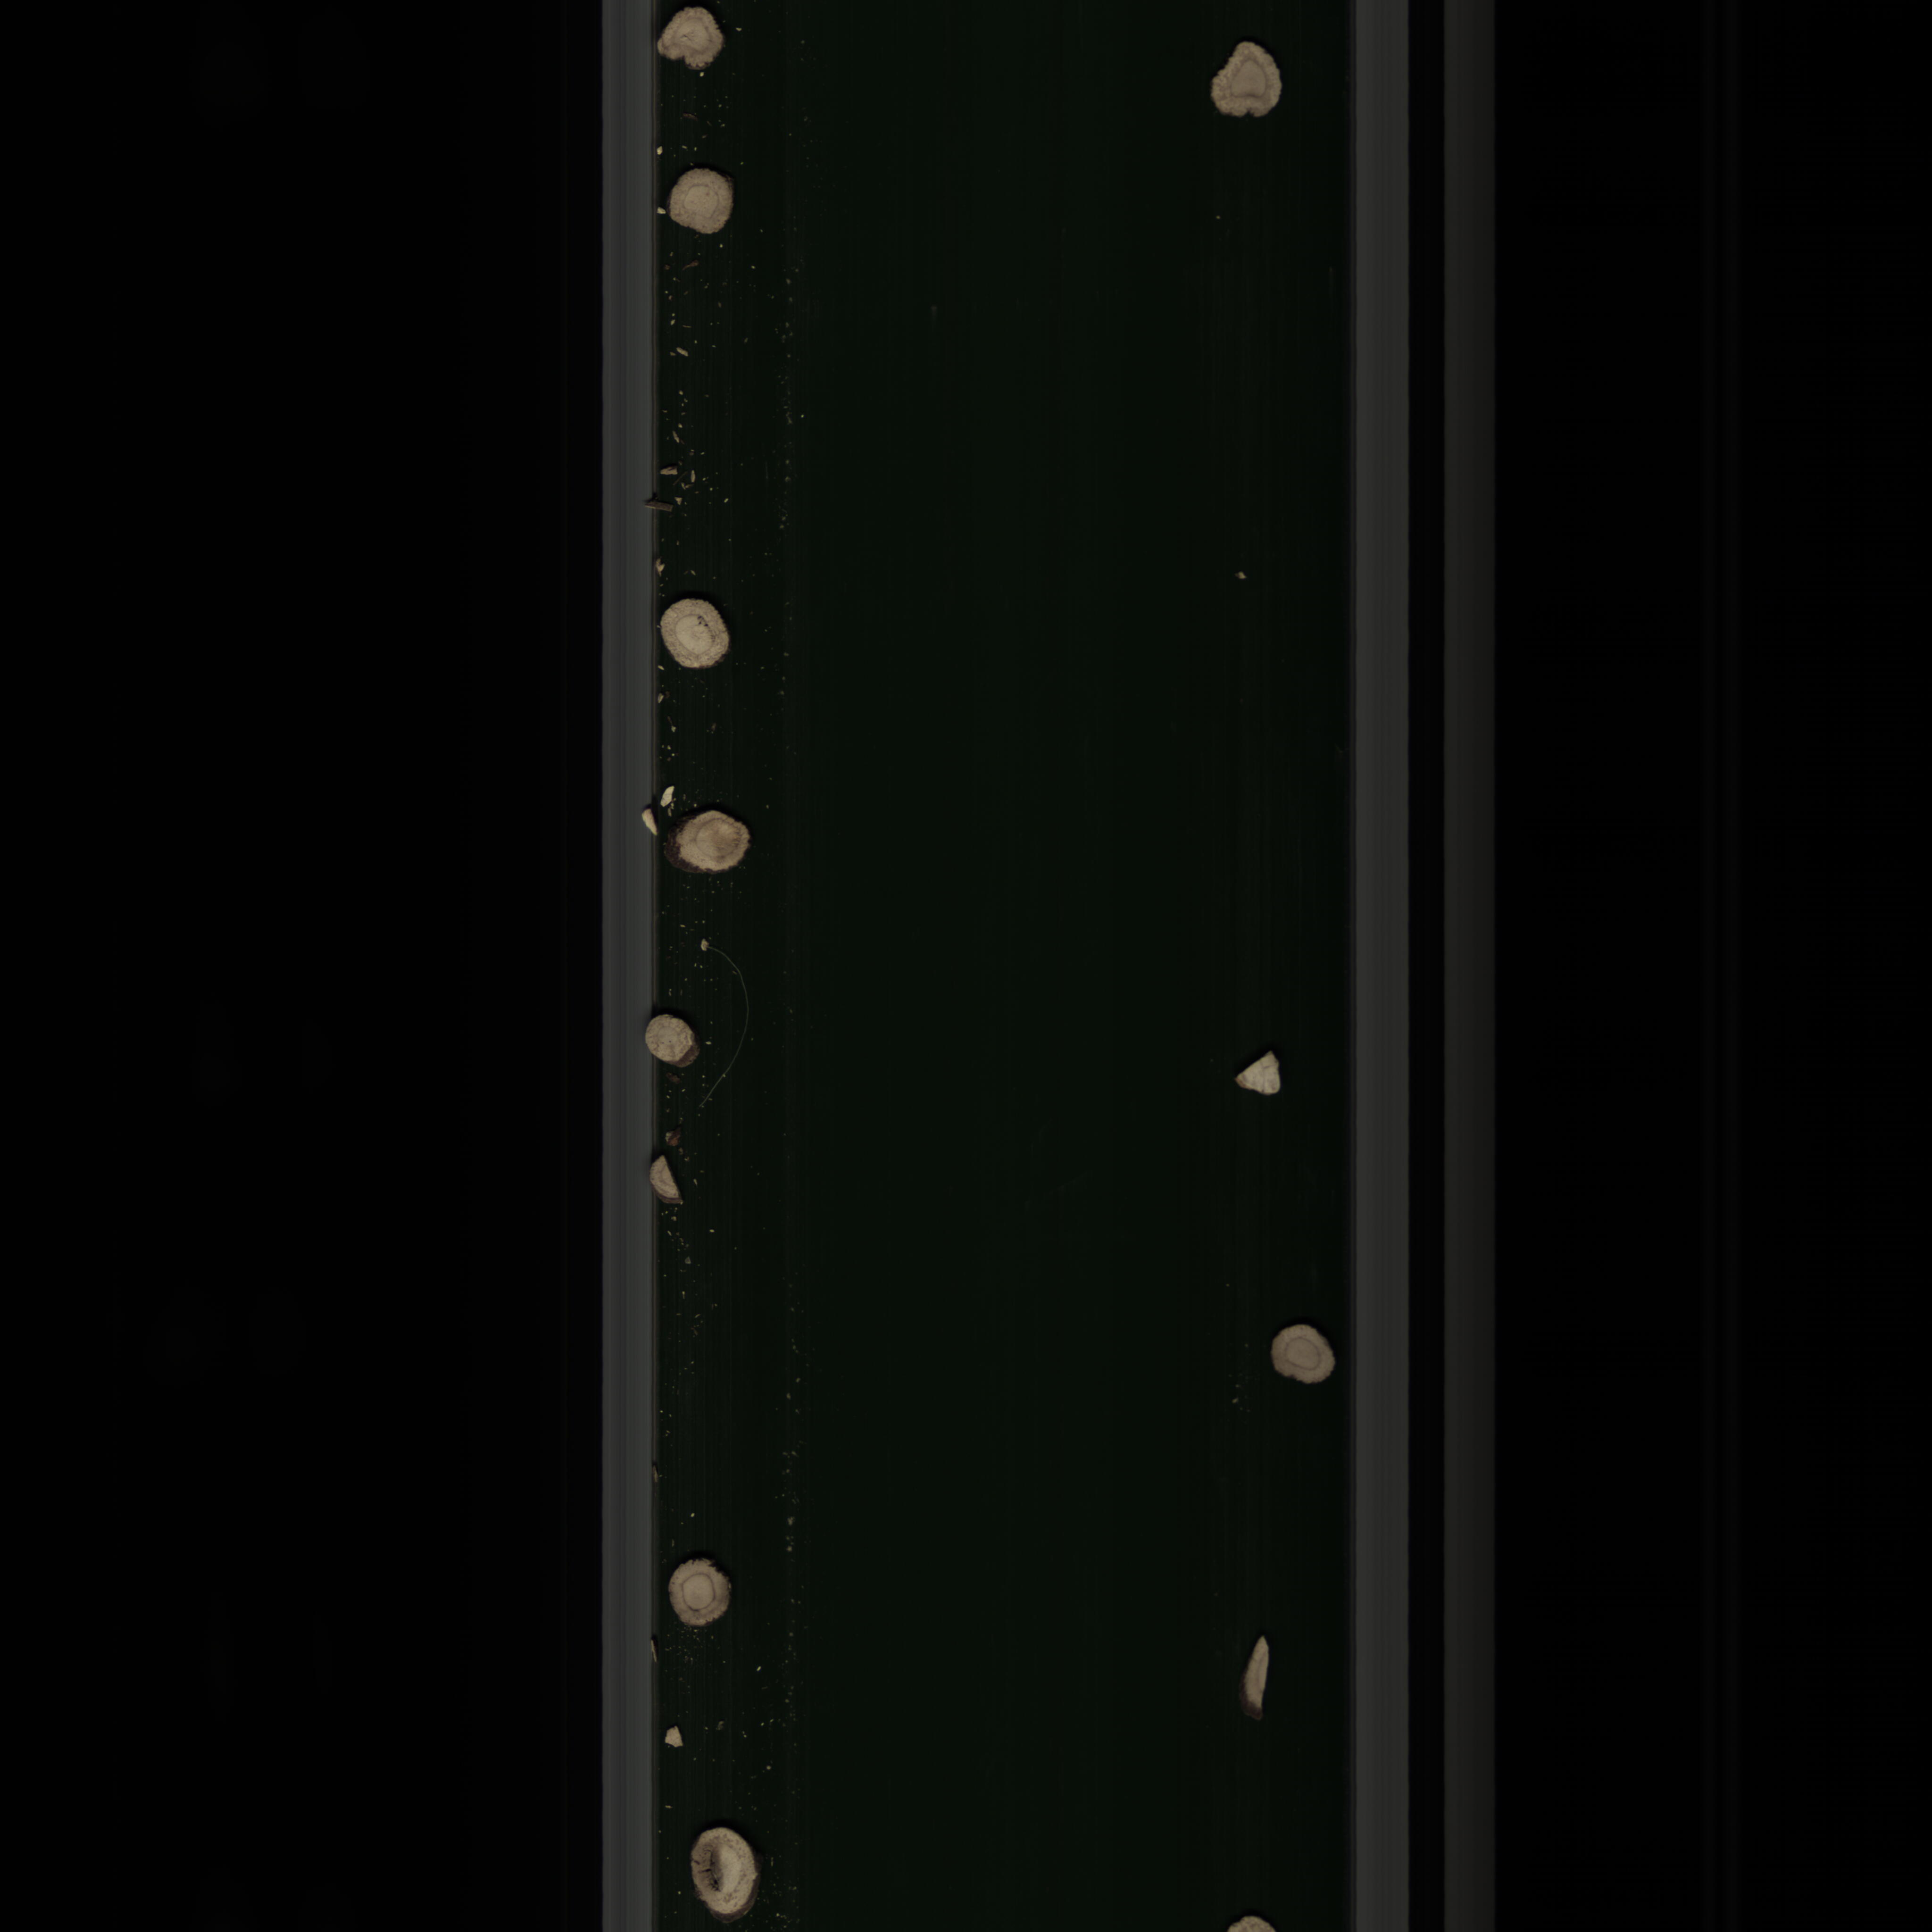debris: (1233, 1629, 1292, 1723), (642, 1136, 692, 1219), (1226, 1049, 1295, 1097)
moldy: (672, 1828, 787, 1925), (1214, 39, 1293, 122), (648, 0, 731, 73)
